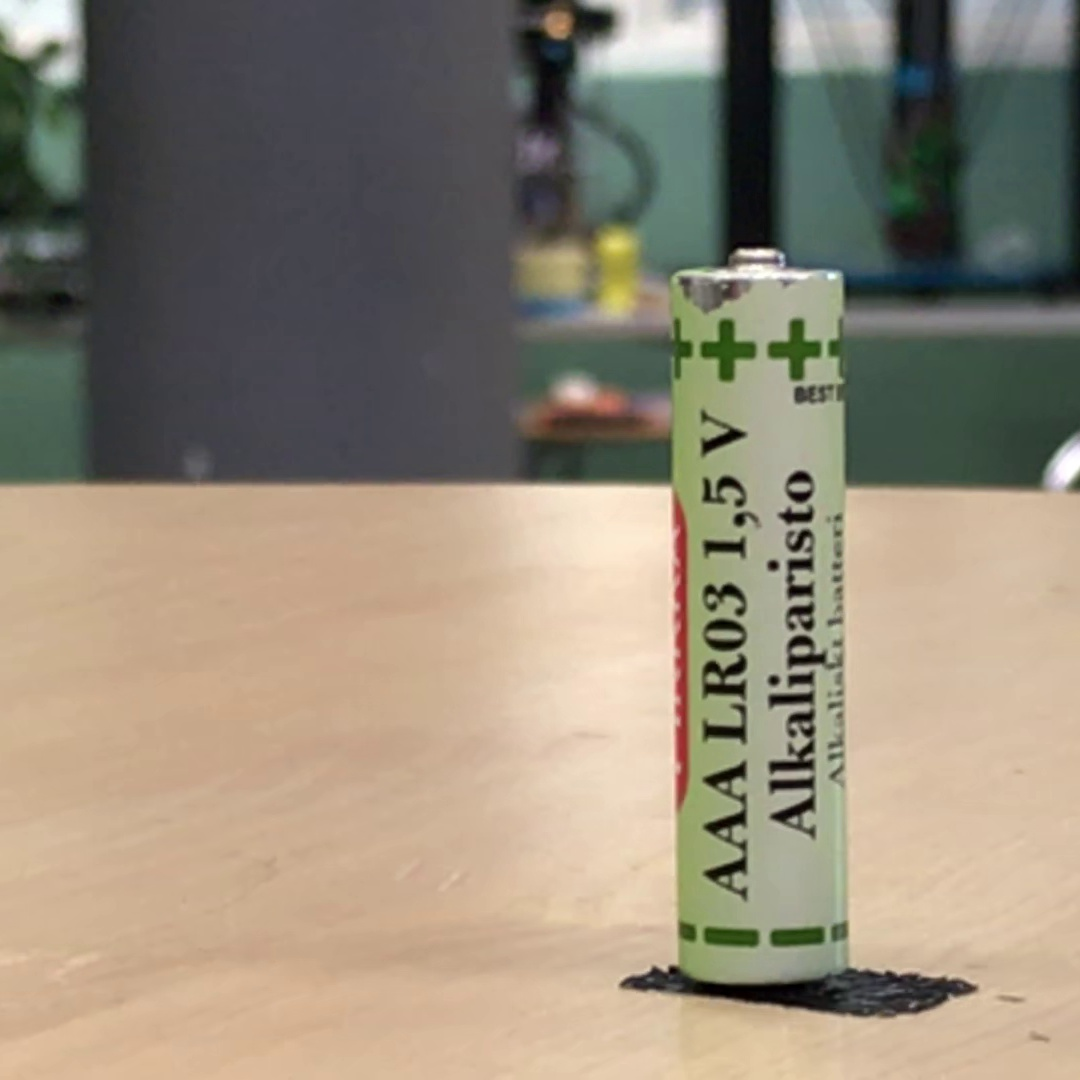keyword: (691, 404, 756, 569), (758, 765, 826, 849)
